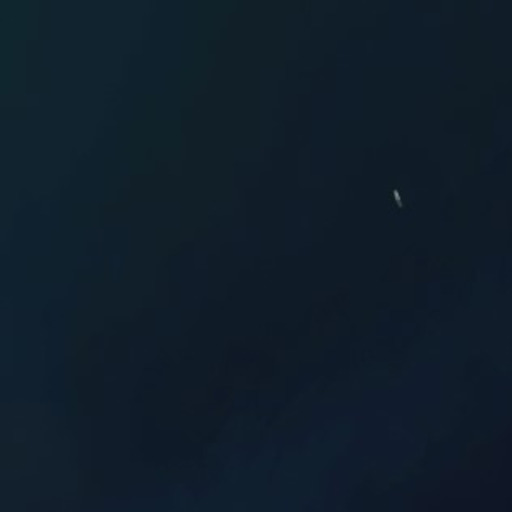ship: (390, 185, 405, 212)
